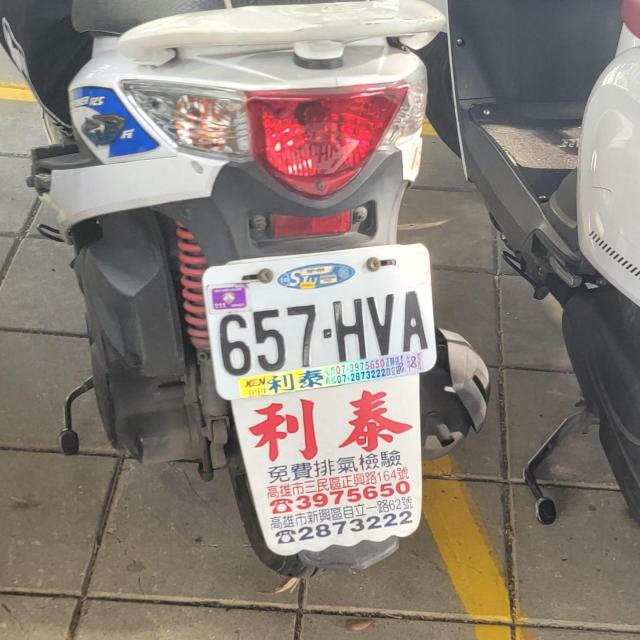W: (191, 237, 444, 401)
